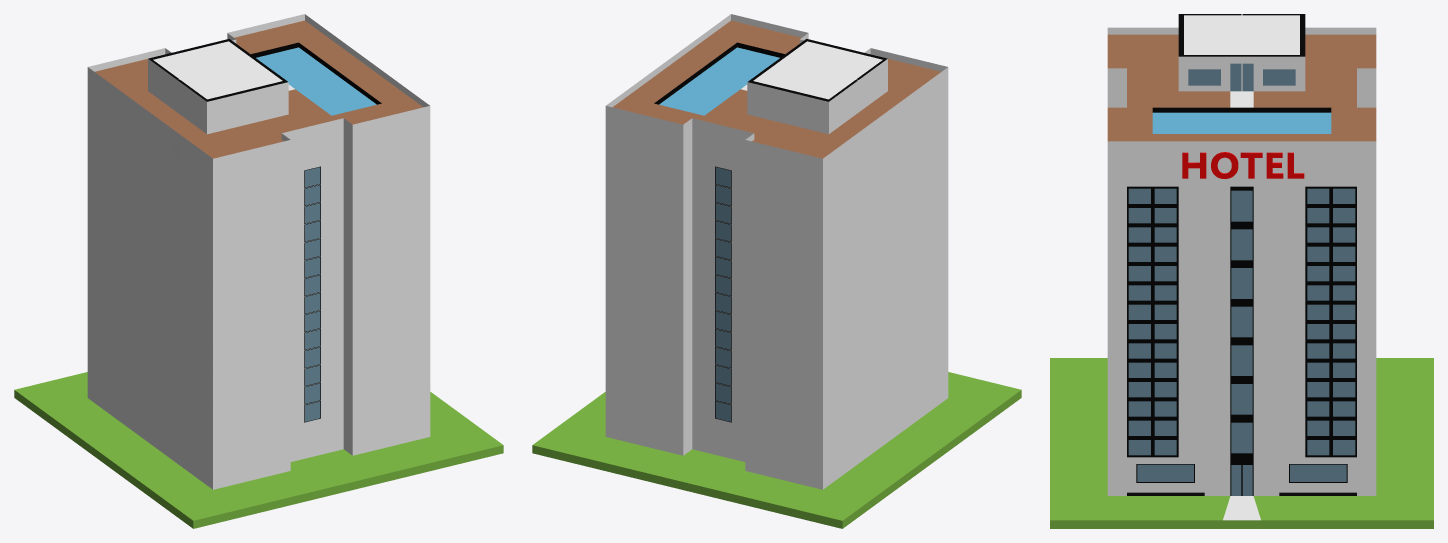
File: hotel.fbx
The picture shows the model from 3 angles, left to right: view 1: azimuth 30°, elevation 25°; view 2: azimuth 150°, elevation 25°; view 3: azimuth 270°, elevation 25°; orthographic projection. The views are drawn at different scales.
Visible parts, largest first — view 1: hotel; view 2: hotel; view 3: hotel.
Part boxes in pixels (left/top/right/bottom): hotel: left=14, top=14, right=503, bottom=528; hotel: left=532, top=14, right=1021, bottom=528; hotel: left=1050, top=14, right=1433, bottom=528.
Bounding box in the file's own units: 1000 × 1125 × 1000.
